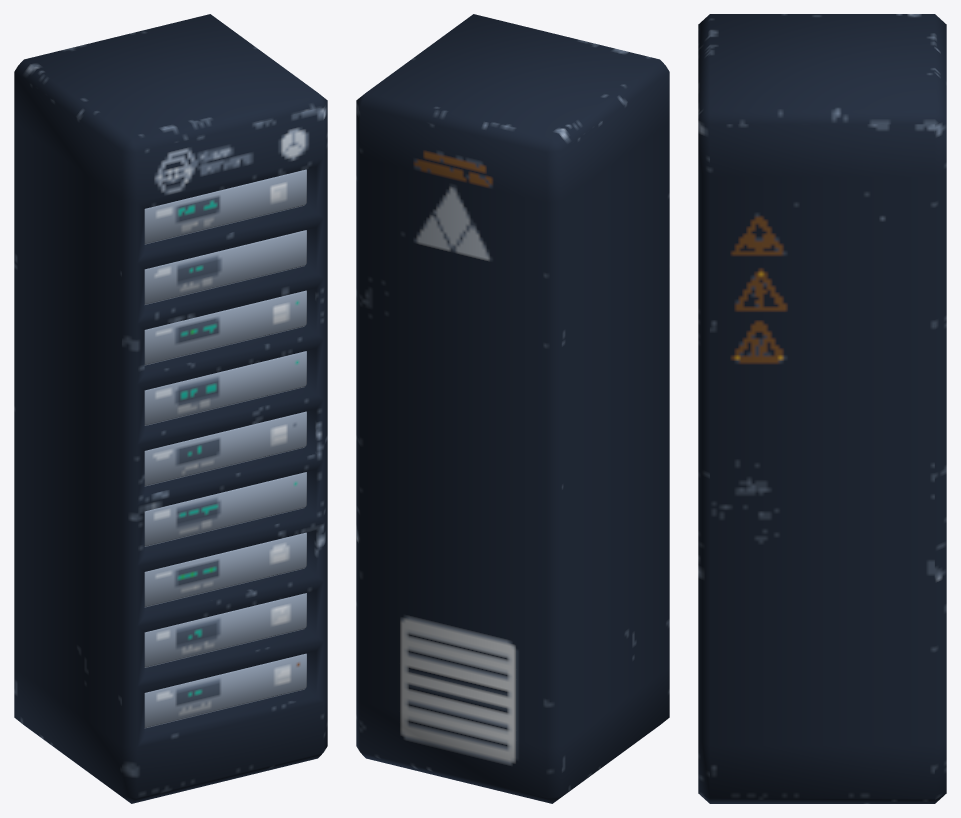
Rendered from server-rack.glb.
3 renders of one model, left to right at view 1: azimuth 30°, elevation 25°; view 2: azimuth 150°, elevation 25°; view 3: azimuth 270°, elevation 25°, orthographic. The views are drawn at different scales.
Parts seen in each view (by area): view 1: model; view 2: model; view 3: model.
Boxes of the visible parts, <box> form: model: <box>14,14,327,803</box>; model: <box>356,14,669,803</box>; model: <box>698,14,946,803</box>.
Bounding box in the file's own units: 0.7441 × 2.3 × 0.7441.
1 material, 1 textured.
